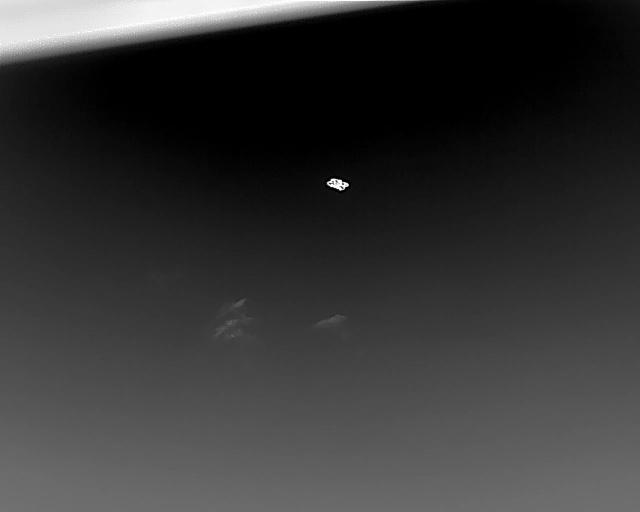fpv-drone: (326, 178, 349, 191)
